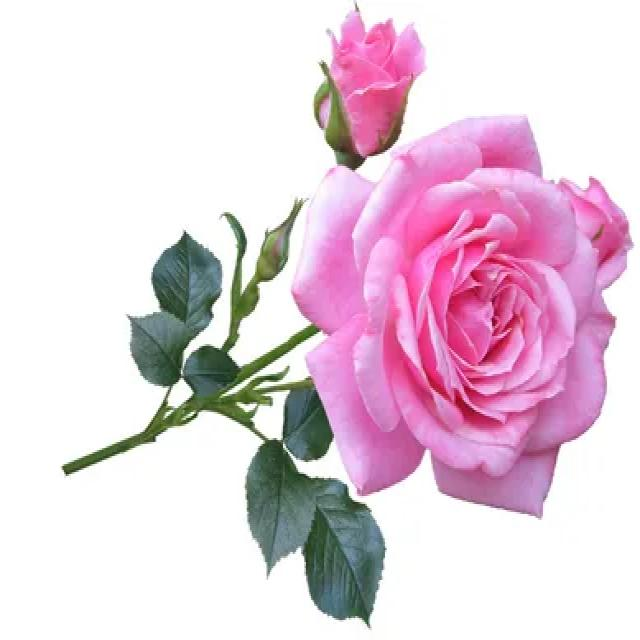rose: (284, 102, 640, 525)
